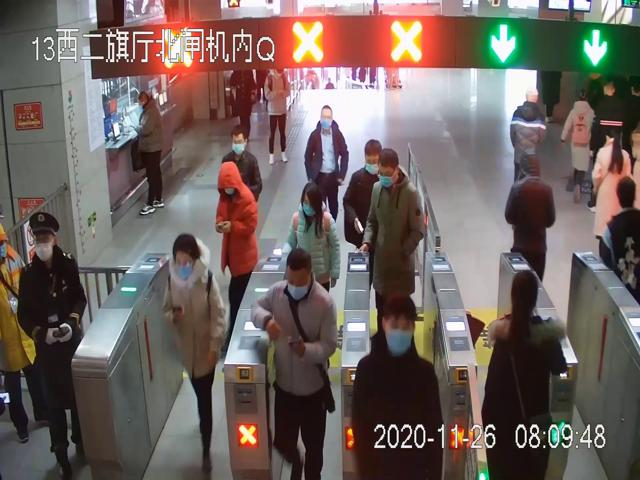person: (249, 247, 337, 480), (20, 210, 87, 476), (162, 232, 226, 473), (364, 148, 426, 309), (215, 160, 259, 352), (287, 181, 343, 291), (305, 105, 349, 228), (129, 88, 164, 216), (265, 66, 290, 163)
